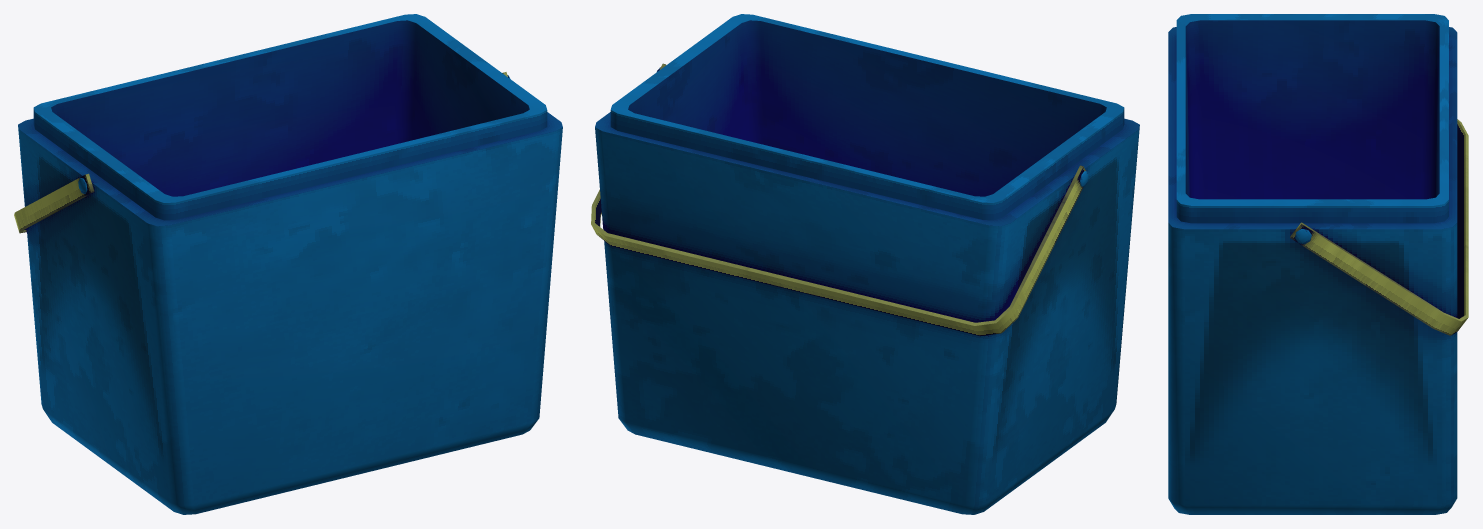
Rendered from IceBox.glb.
The picture shows the model from 3 angles, left to right: view 1: azimuth 30°, elevation 25°; view 2: azimuth 150°, elevation 25°; view 3: azimuth 270°, elevation 25°; orthographic projection.
Visible parts, largest first — view 1: IceBox.001; view 2: IceBox.001; view 3: IceBox.001.
Part boxes in pixels (x1,y1,x2,y2): IceBox.001: (14,14,562,514); IceBox.001: (591,14,1139,514); IceBox.001: (1168,14,1468,514).
Bounding box in the file's own units: 0.5159 × 0.37 × 0.3119.
1 material, 1 textured.
